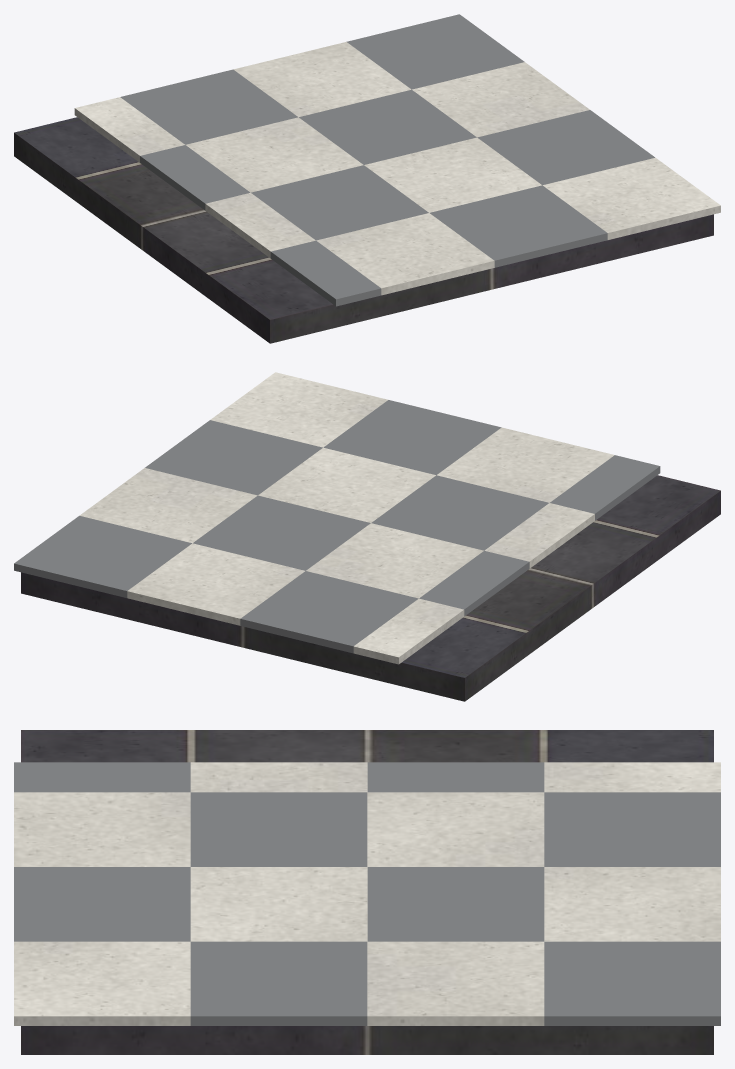
The model's file is floor_marble_g_e1000.glb.
The picture shows the model from 3 angles, top to bottom: view 1: azimuth 30°, elevation 25°; view 2: azimuth 150°, elevation 25°; view 3: azimuth 270°, elevation 25°; orthographic projection. The views are drawn at different scales.
Parts seen in each view (by area): view 1: floor_marble_g_e1000_marble, floor_marble_g_e1000_slate, floor_marble_g_e1000_plinth; view 2: floor_marble_g_e1000_slate, floor_marble_g_e1000_marble, floor_marble_g_e1000_plinth; view 3: floor_marble_g_e1000_marble, floor_marble_g_e1000_slate, floor_marble_g_e1000_plinth.
Boxes of the visible parts, bbox=[...] form: floor_marble_g_e1000_marble: bbox=[74, 42, 720, 295]; floor_marble_g_e1000_slate: bbox=[120, 14, 654, 306]; floor_marble_g_e1000_plinth: bbox=[14, 117, 713, 343]; floor_marble_g_e1000_slate: bbox=[14, 400, 660, 653]; floor_marble_g_e1000_marble: bbox=[80, 372, 614, 664]; floor_marble_g_e1000_plinth: bbox=[21, 475, 720, 701]; floor_marble_g_e1000_marble: bbox=[14, 762, 720, 1025]; floor_marble_g_e1000_slate: bbox=[14, 762, 720, 1025]; floor_marble_g_e1000_plinth: bbox=[21, 730, 713, 1054].
Size of the model in its own units: 1.98 by 0.13 by 2.
Materials: 3 (2 with a texture image).
